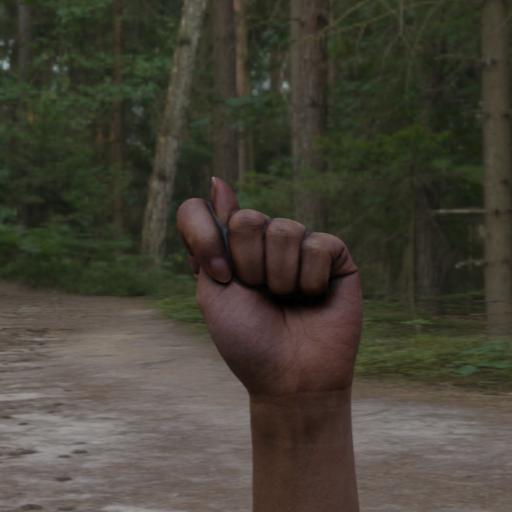T: (158, 170, 370, 446)
